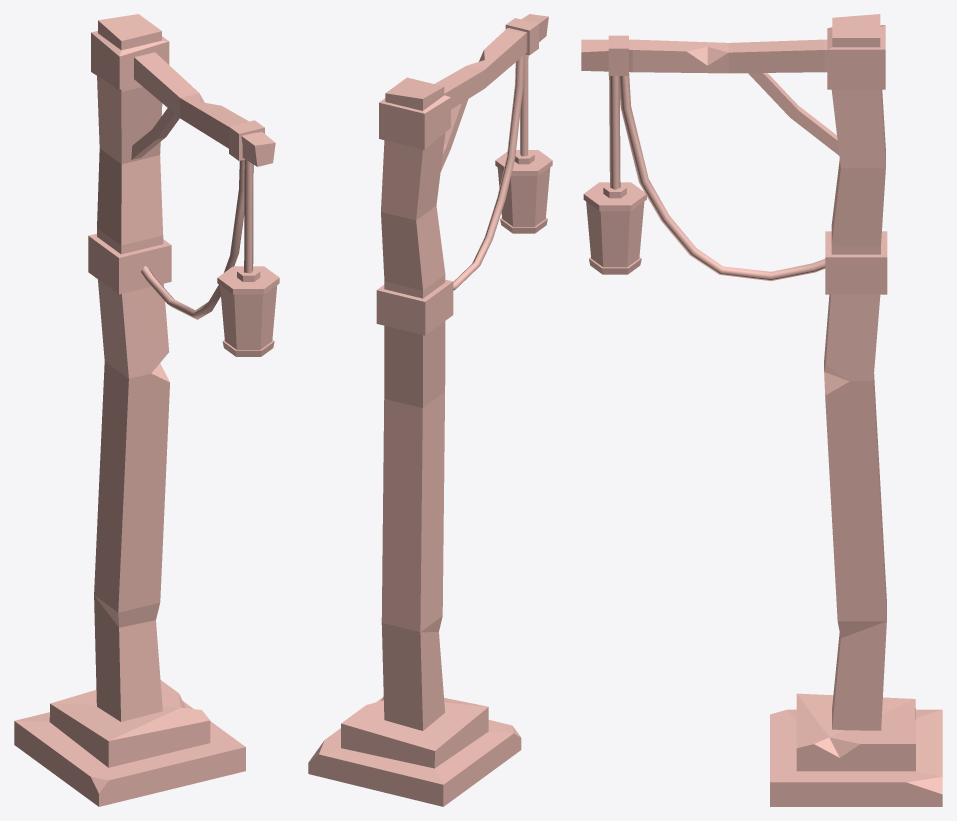
File: Mega_Asset_s_Pack_Cube_287.FBX
The picture shows the model from 3 angles, left to right: view 1: azimuth 30°, elevation 25°; view 2: azimuth 150°, elevation 25°; view 3: azimuth 270°, elevation 25°; orthographic projection. The views are drawn at different scales.
Parts seen in each view (by area): view 1: Mega_Asset_s_Pack_Cube_287; view 2: Mega_Asset_s_Pack_Cube_287; view 3: Mega_Asset_s_Pack_Cube_287.
Boxes of the visible parts, x1=… form: Mega_Asset_s_Pack_Cube_287: x1=14, y1=14, x2=279, y2=806; Mega_Asset_s_Pack_Cube_287: x1=308, y1=14, x2=552, y2=806; Mega_Asset_s_Pack_Cube_287: x1=581, y1=14, x2=942, y2=806.
Size of what is drawn, in the model's own units: 91.16 by 191 by 435.
